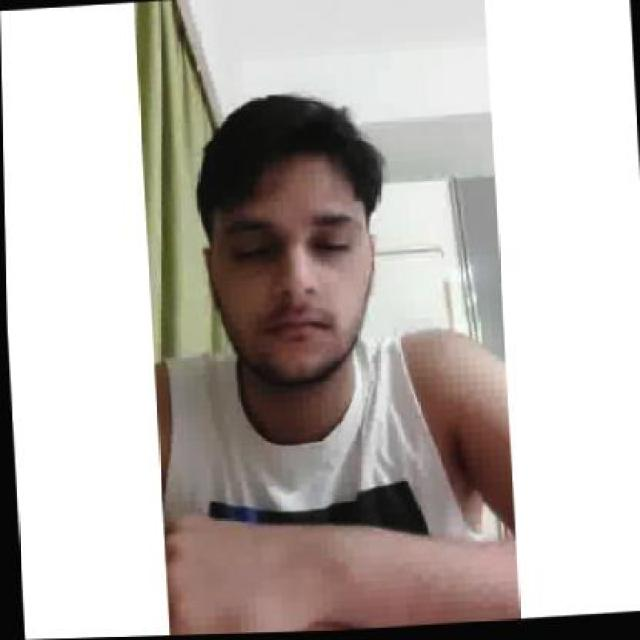inattentif: (190, 89, 381, 400)
